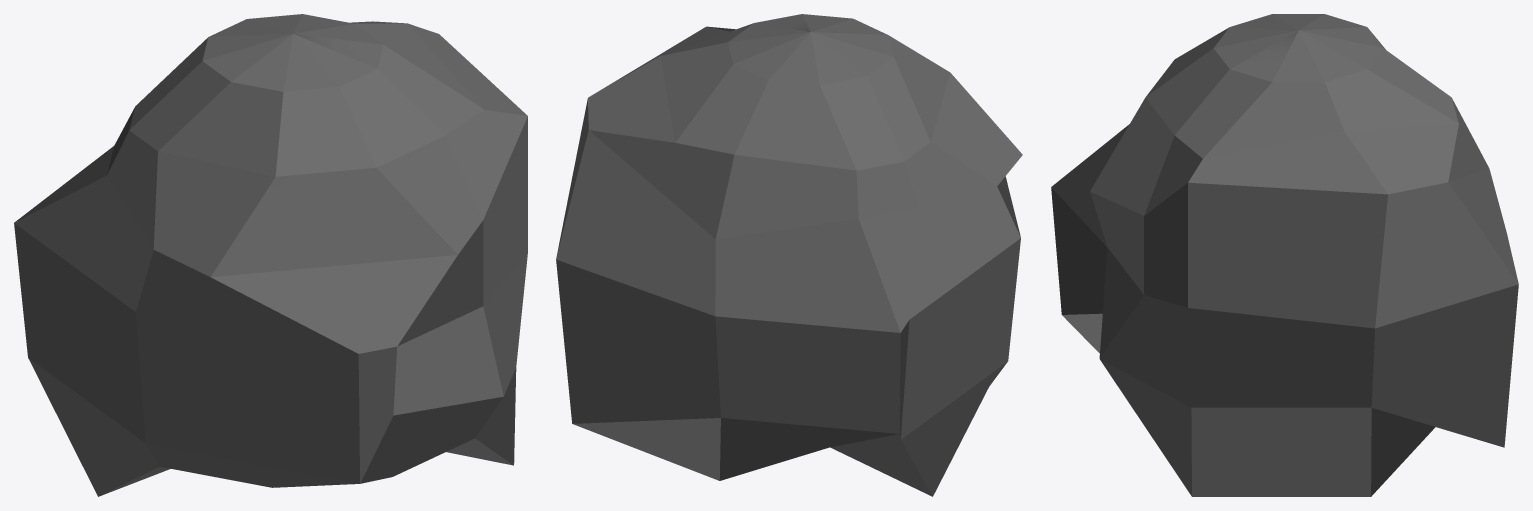
The model's file is Rock1FBX.fbx.
3 renders of one model, left to right at view 1: azimuth 30°, elevation 25°; view 2: azimuth 150°, elevation 25°; view 3: azimuth 270°, elevation 25°, orthographic. The views are drawn at different scales.
Parts seen in each view (by area): view 1: Сфера; view 2: Сфера; view 3: Сфера.
Boxes of the visible parts, <box> form: Сфера: <box>14,14,527,496</box>; Сфера: <box>556,14,1022,496</box>; Сфера: <box>1051,14,1518,496</box>.
Size of the model in its own units: 120 by 124 by 129.
